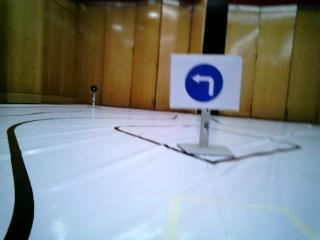left: (173, 59, 235, 103)
